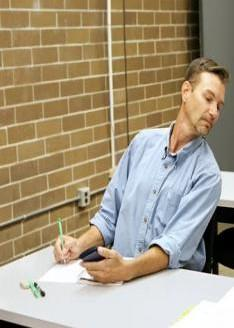cheating: (50, 53, 234, 289)
